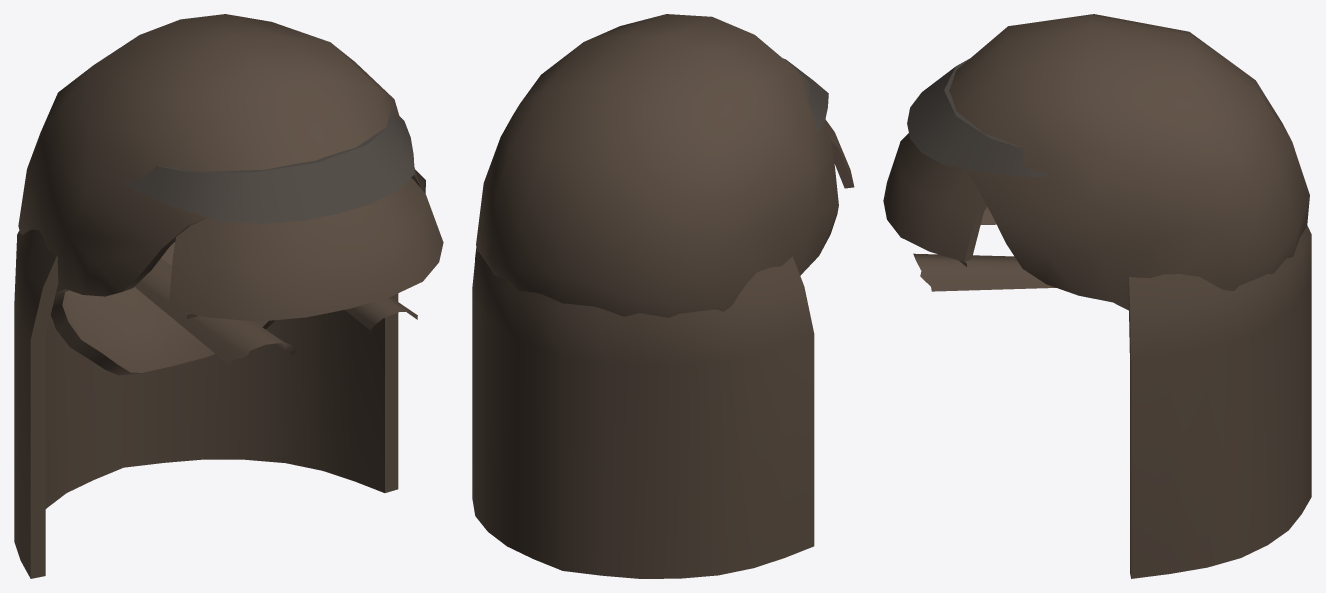
Rendered from hair_f1.glb.
The picture shows the model from 3 angles, left to right: view 1: azimuth 30°, elevation 25°; view 2: azimuth 150°, elevation 25°; view 3: azimuth 270°, elevation 25°; orthographic projection. The views are drawn at different scales.
Visible parts, largest first — view 1: Hair_f1; view 2: Hair_f1; view 3: Hair_f1.
Part boxes in pixels (x1,y1,x2,y2): Hair_f1: [14, 14, 443, 578]; Hair_f1: [472, 14, 854, 578]; Hair_f1: [883, 14, 1311, 578].
Size of the model in its own units: 0.2332 by 0.3104 by 0.2581.
